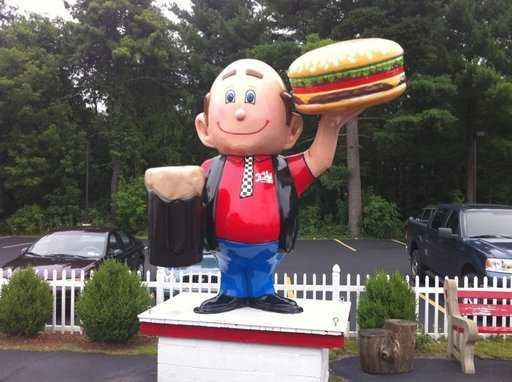hamburger: (287, 31, 429, 113)
